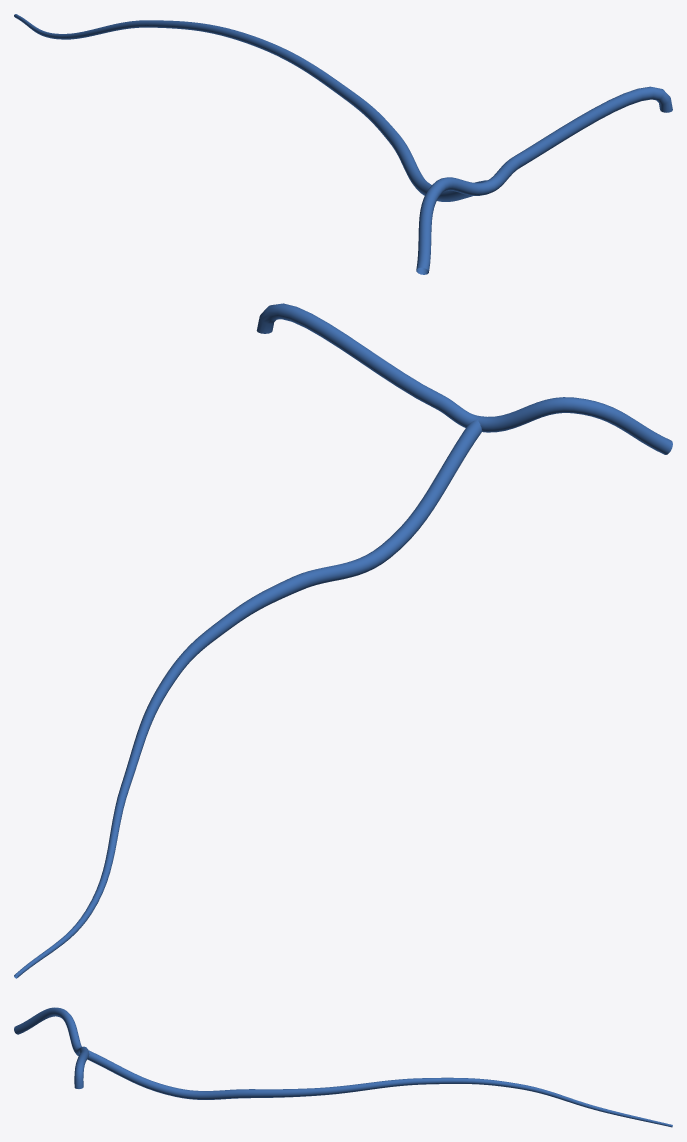
3 renders of one model, top to bottom at view 1: azimuth 30°, elevation 25°; view 2: azimuth 150°, elevation 25°; view 3: azimuth 270°, elevation 25°, orthographic. The views are drawn at different scales.
Parts seen in each view (by area): view 1: 右侧阴部外静脉; view 2: 右侧阴部外静脉; view 3: 右侧阴部外静脉.
Part boxes in pixels (x1=…): 右侧阴部外静脉: x1=14, y1=14, x2=672, y2=274; 右侧阴部外静脉: x1=14, y1=303, x2=672, y2=978; 右侧阴部外静脉: x1=14, y1=1007, x2=672, y2=1127.
Bounding box in the file's own units: 0.0544 × 0.0336 × 0.1499.
